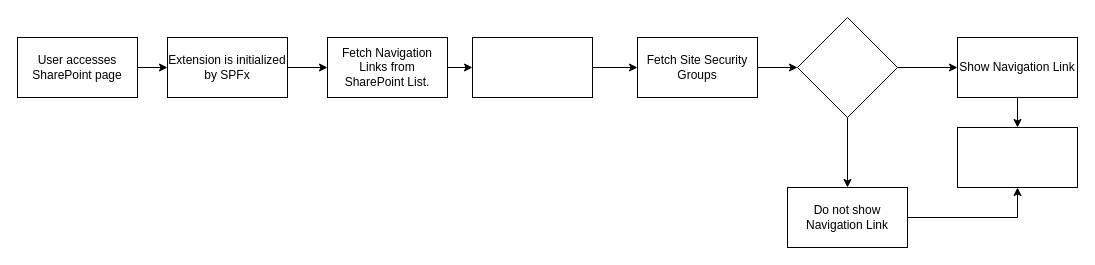
Some shapes in this 1095 by 265 pixel diagram are drawn without their labels. The box of each missing label's shape, as (x1, y1, x2, y2) in pixels:
Fetch Current User Information: (472, 36, 592, 98)
Is User in the Security Group: (796, 16, 898, 118)
Render and Display Mega Menu: (956, 126, 1078, 188)
